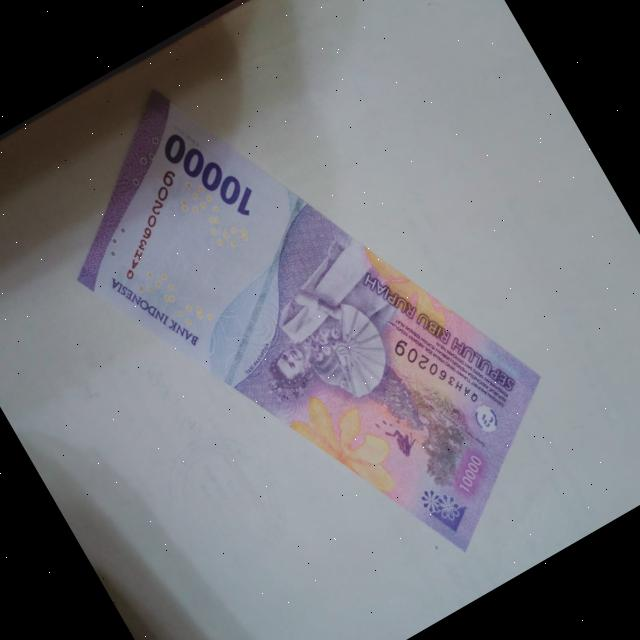10K: (6, 0, 605, 640)
